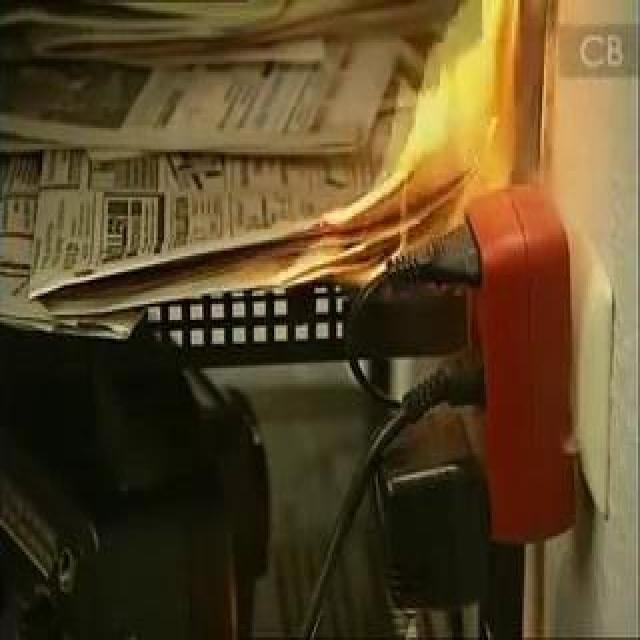Fire: (220, 2, 524, 314)
